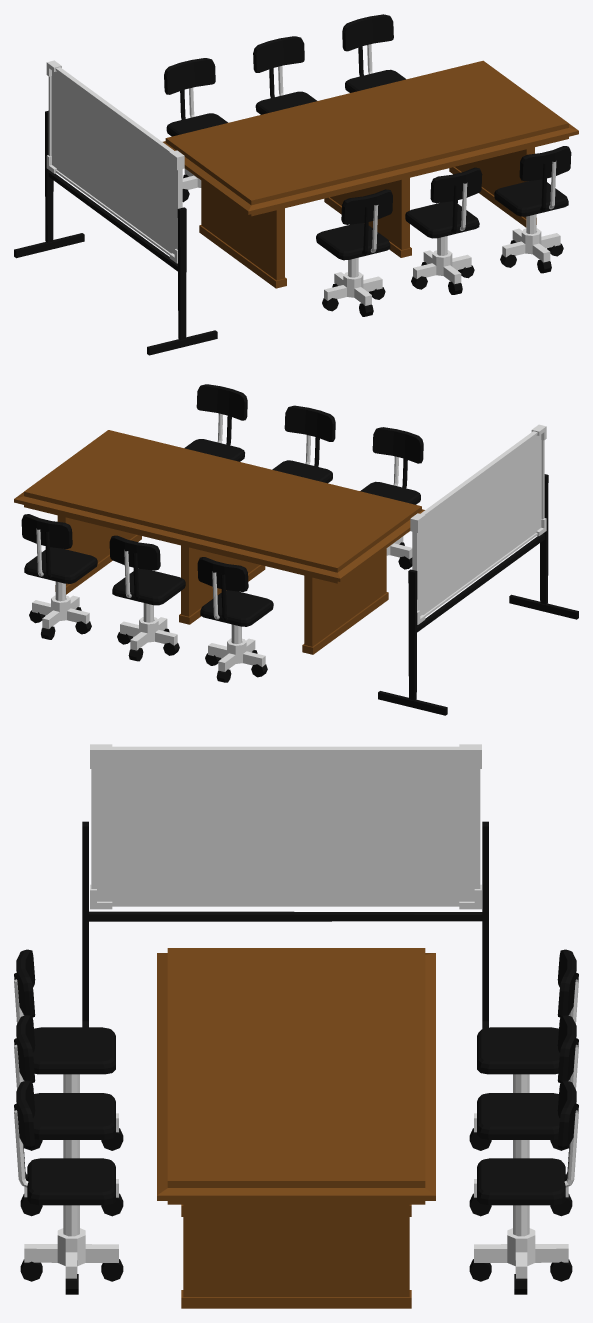
Rendered from Set Meeting Room.fbx.
3 views of the same model, one above another, from view 1: azimuth 30°, elevation 25°; view 2: azimuth 150°, elevation 25°; view 3: azimuth 270°, elevation 25° (orthographic). The views are drawn at different scales.
Visible parts, largest first — view 1: Plane.005, Vert.001, board tabel.001; view 2: Plane.005, Vert.001, board tabel.001; view 3: Plane.005, board tabel.001, Vert.001.
Boxes of the visible parts, x1,y1,x2,y2 form: Plane.005: [163, 60, 578, 288]; Vert.001: [164, 14, 571, 316]; board tabel.001: [14, 60, 217, 355]; Plane.005: [14, 430, 424, 654]; Vert.001: [21, 384, 423, 682]; board tabel.001: [378, 424, 578, 715]; Plane.005: [157, 948, 435, 1308]; board tabel.001: [82, 744, 488, 1028]; Vert.001: [14, 949, 578, 1294].
Size of the model in its own units: 3483 by 1381 by 2491.
